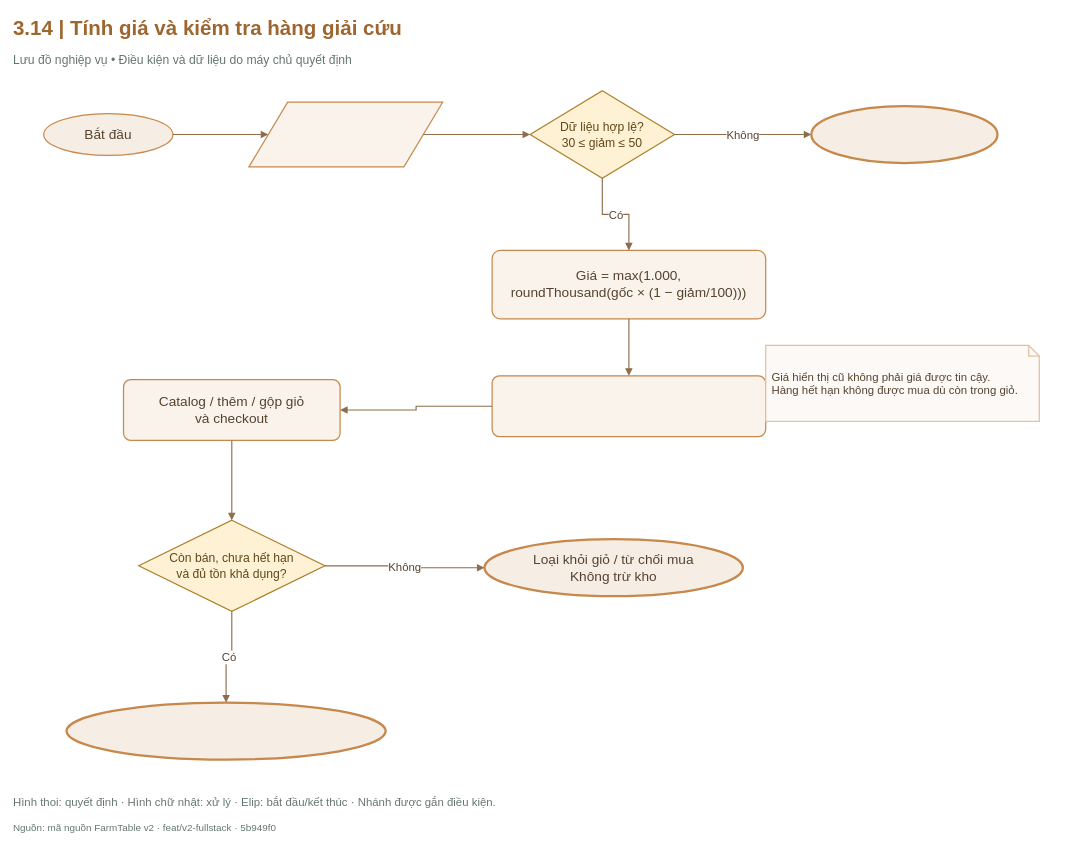
This 1082x850 diagram has some shape labels left out. Here are the shapes that lost their labels. From the top down, the centre of each, then its label:
point (345, 134): Giá gốc, % giảm, hạn bán, chủ sở hữu
point (904, 134): 400 / 403 Không lưu sản phẩm
point (628, 406): Lưu price, rescue.expiresAt và lý do giải cứu
point (225, 730): Cho mua theo giá server Kiểm lại trong transaction
